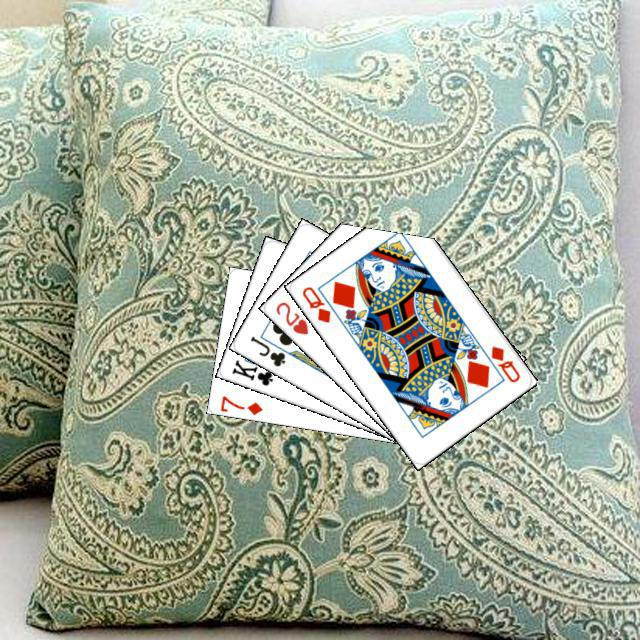2h: (271, 297, 310, 336)
7d: (216, 391, 264, 417)
Jc: (245, 331, 287, 368)
Kc: (227, 353, 282, 388)
Qd: (486, 341, 522, 384), (297, 281, 332, 325)
